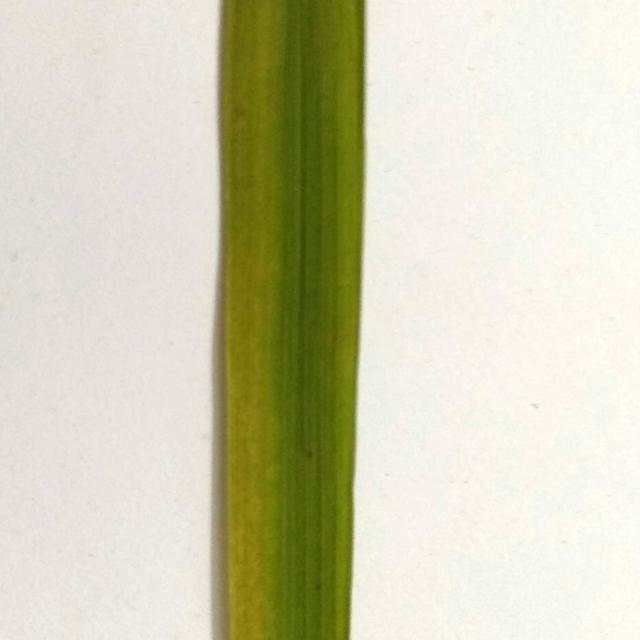healthy: (198, 0, 424, 640)
